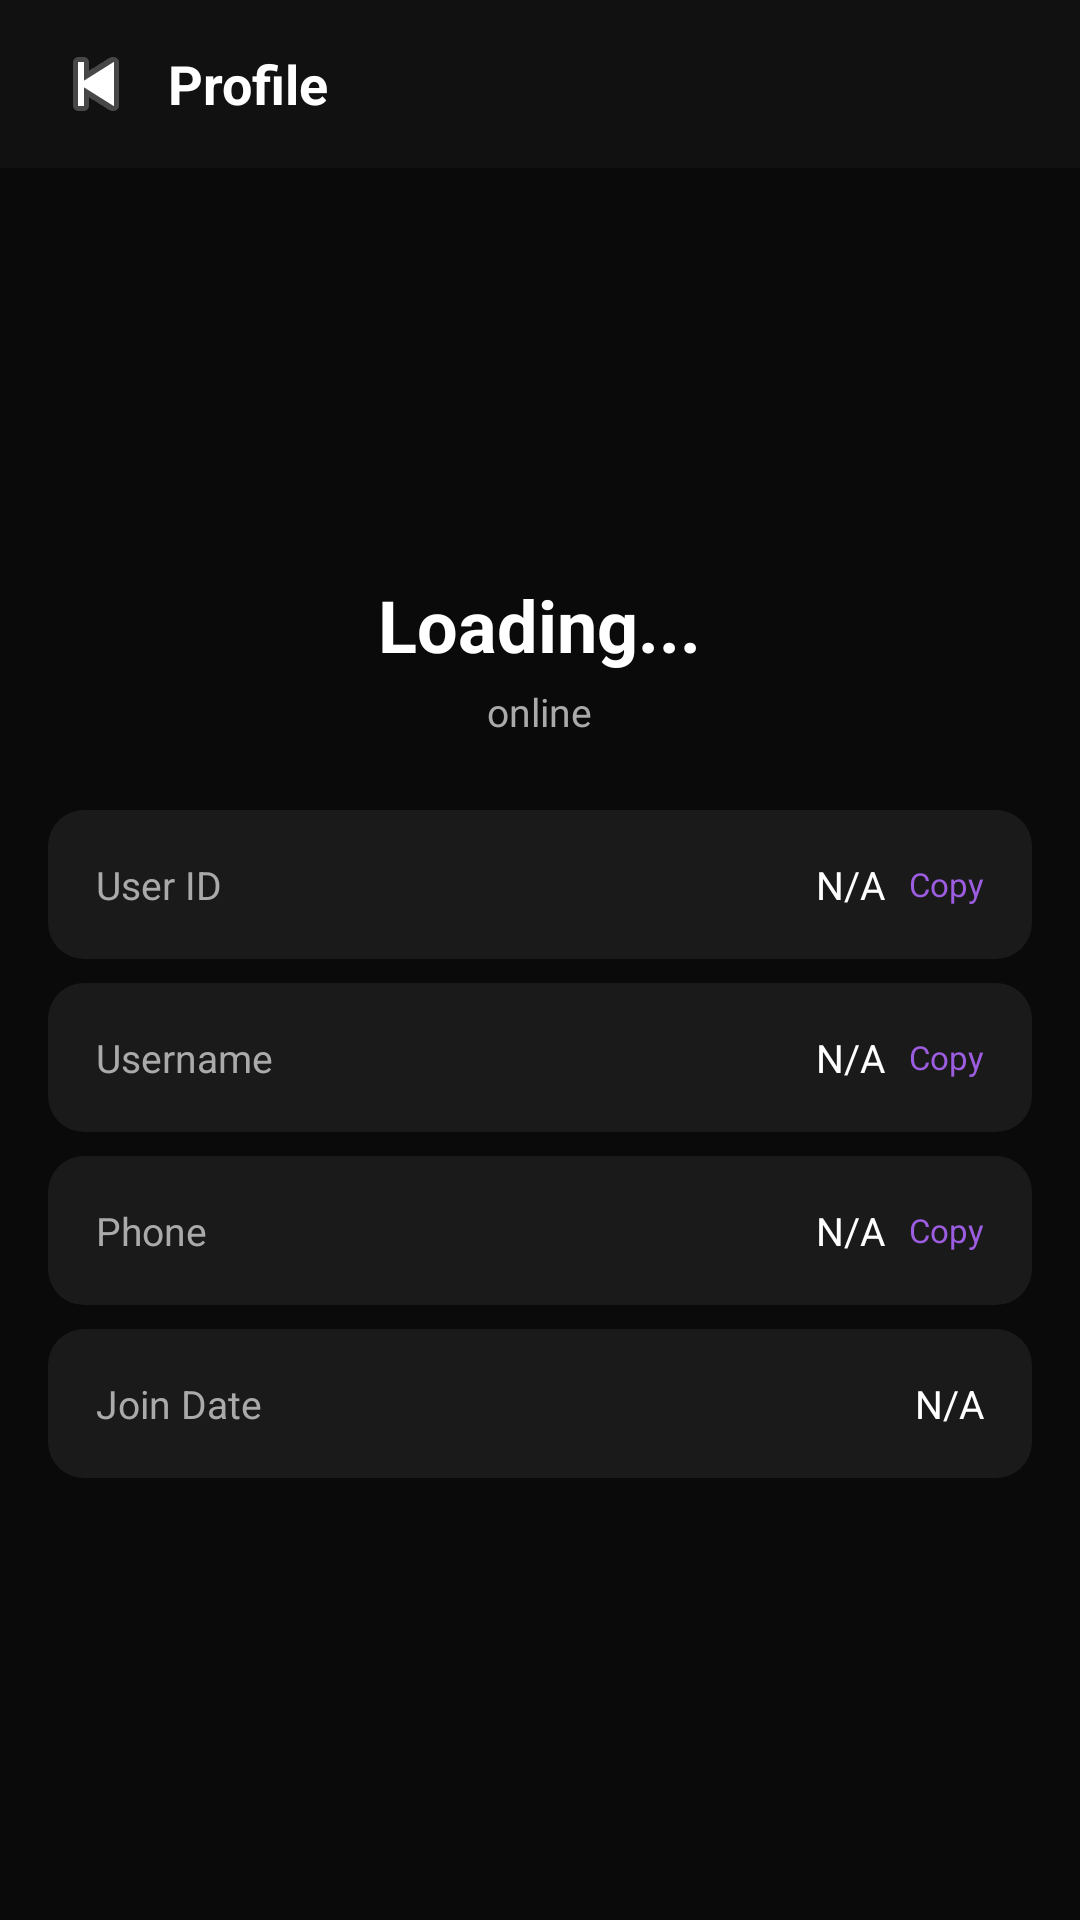

Locate icon controls on the screen. Image size 1080px×1920px, boxes as (x1, y1, x2, y2).
previous: (73, 57, 119, 111)
